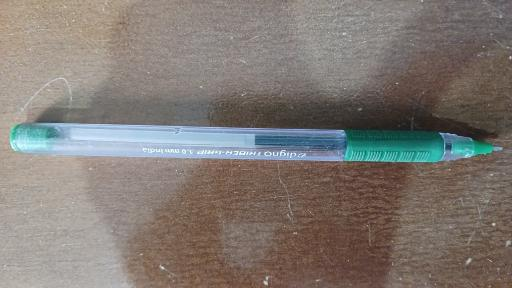pen: (6, 124, 508, 163)
